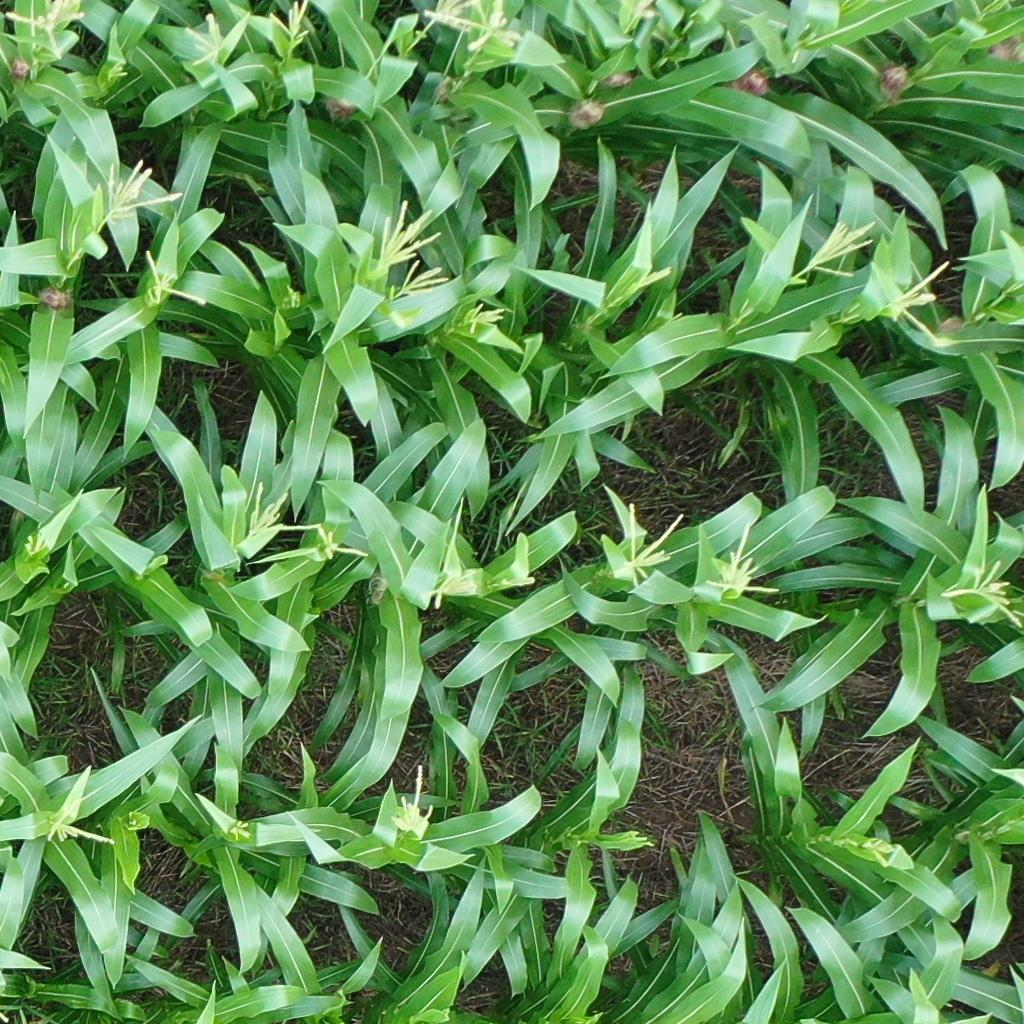Tassel: (706, 521, 781, 597), (622, 500, 686, 589), (104, 159, 183, 221), (885, 256, 954, 324), (5, 1, 85, 58), (807, 216, 878, 277), (377, 200, 443, 265), (245, 478, 321, 533), (385, 761, 437, 838), (970, 557, 1024, 630), (43, 797, 118, 848), (147, 249, 207, 310), (469, 1, 524, 56), (424, 561, 484, 610), (183, 14, 224, 70), (267, 1, 311, 46), (400, 257, 448, 298), (319, 528, 371, 562), (421, 1, 475, 27), (466, 303, 504, 337), (634, 263, 671, 296), (864, 836, 897, 868), (497, 571, 538, 593), (970, 1, 1013, 20), (24, 528, 51, 556), (618, 829, 654, 848), (624, 1, 660, 20), (228, 818, 253, 845), (105, 56, 128, 82)
